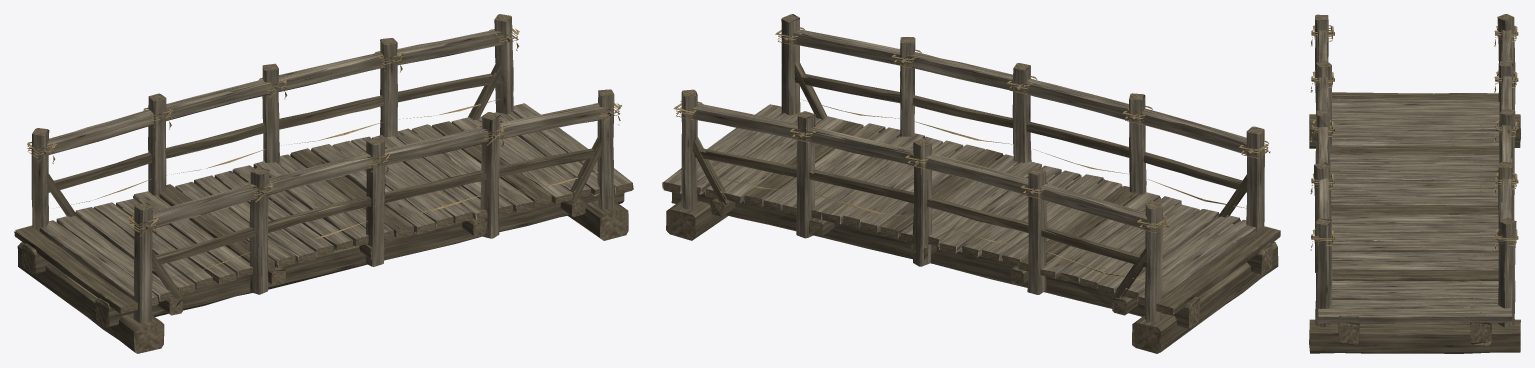
Rendered from bridge.glb.
3 renders of one model, left to right at view 1: azimuth 30°, elevation 25°; view 2: azimuth 150°, elevation 25°; view 3: azimuth 270°, elevation 25°, orthographic. The views are drawn at different scales.
Parts seen in each view (by area): view 1: timber_bridge_LOD1; view 2: timber_bridge_LOD1; view 3: timber_bridge_LOD1.
Part boxes in pixels (<box>): timber_bridge_LOD1: <box>14,14,633,353</box>; timber_bridge_LOD1: <box>662,14,1280,353</box>; timber_bridge_LOD1: <box>1309,14,1520,353</box>.
Size of the model in its own units: 6.06 by 1.66 by 2.38.
Materials: 4 (4 with a texture image).
